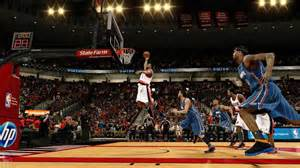basketball: (142, 51, 150, 59)
